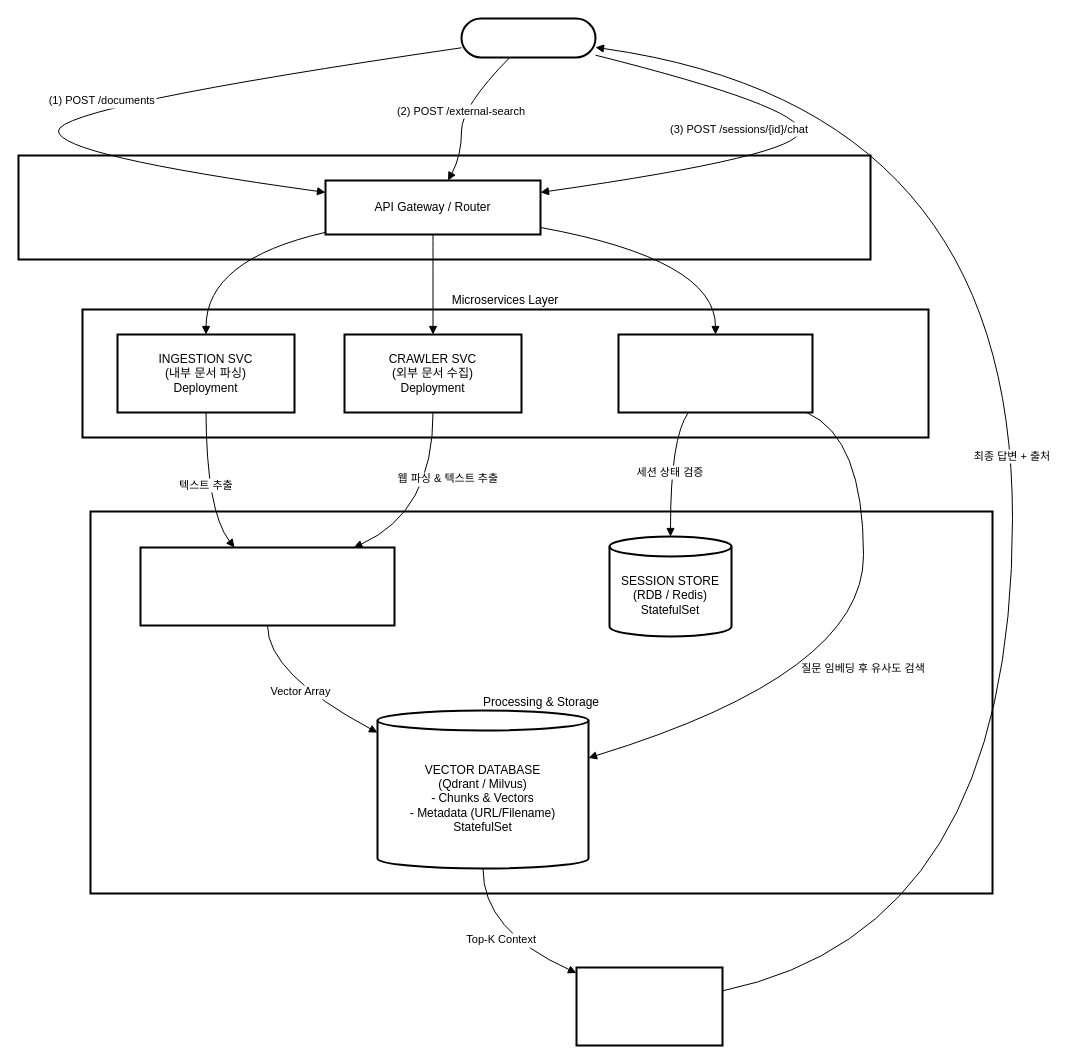
This 1068x1063 diagram has some shape labels left out. Here are the shapes that lost their labels. From the top down, the centre of each, then its label:
At pixel 528 37: "CLIENT User/UI".
At pixel 715 373: "CHAT / RAG SVC (세션 & 답변 생성) Deployment".
At pixel 267 586: "EMBEDDING PIPELINE (Gemini / Text Embedding)".
At pixel 649 1006: "GEMINI API (LLM Model)".
